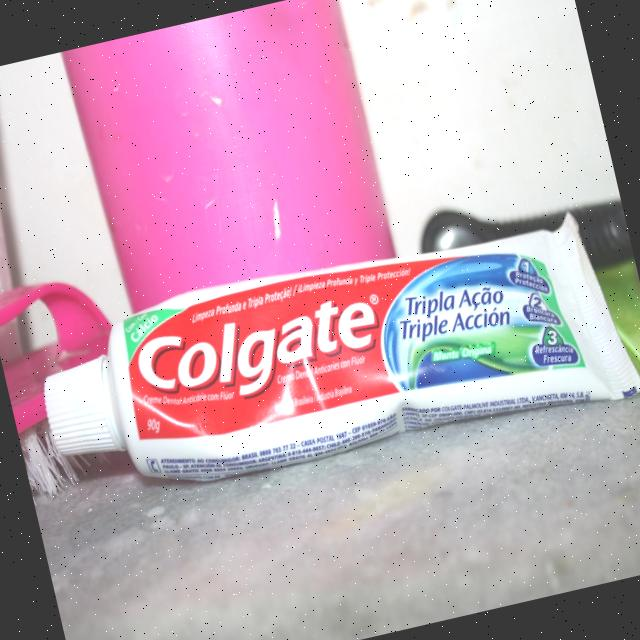Toothpaste: (21, 191, 640, 529)
